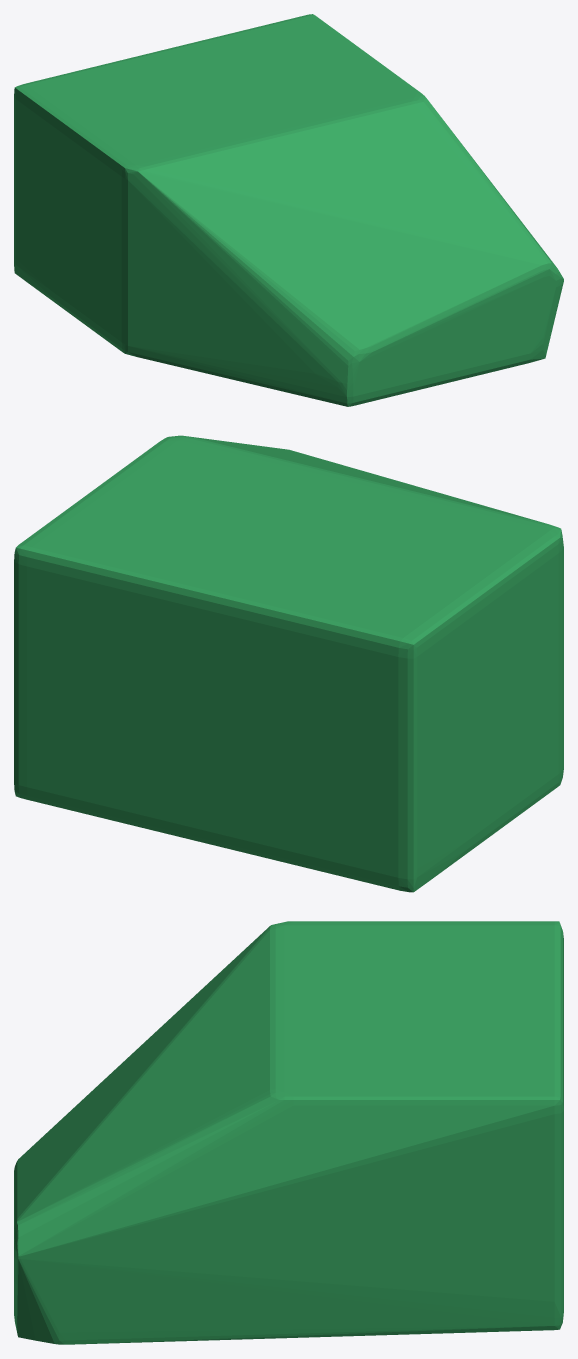
Rendered from torso_link_part_10.obj.
3 views of the same model, one above another, from view 1: azimuth 30°, elevation 25°; view 2: azimuth 150°, elevation 25°; view 3: azimuth 270°, elevation 25° (orthographic). The views are drawn at different scales.
Size of the model in its own units: 0.1639 by 0.0895 by 0.1919.
